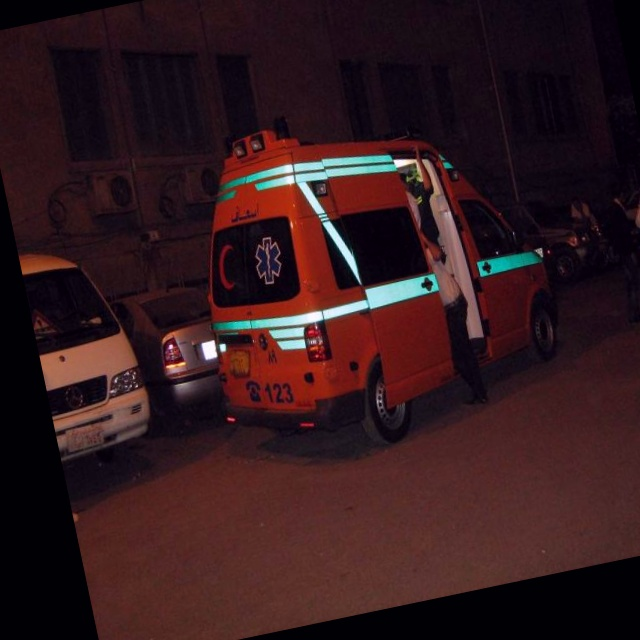Ambulance: (165, 68, 579, 478)
car: (107, 278, 235, 441)
